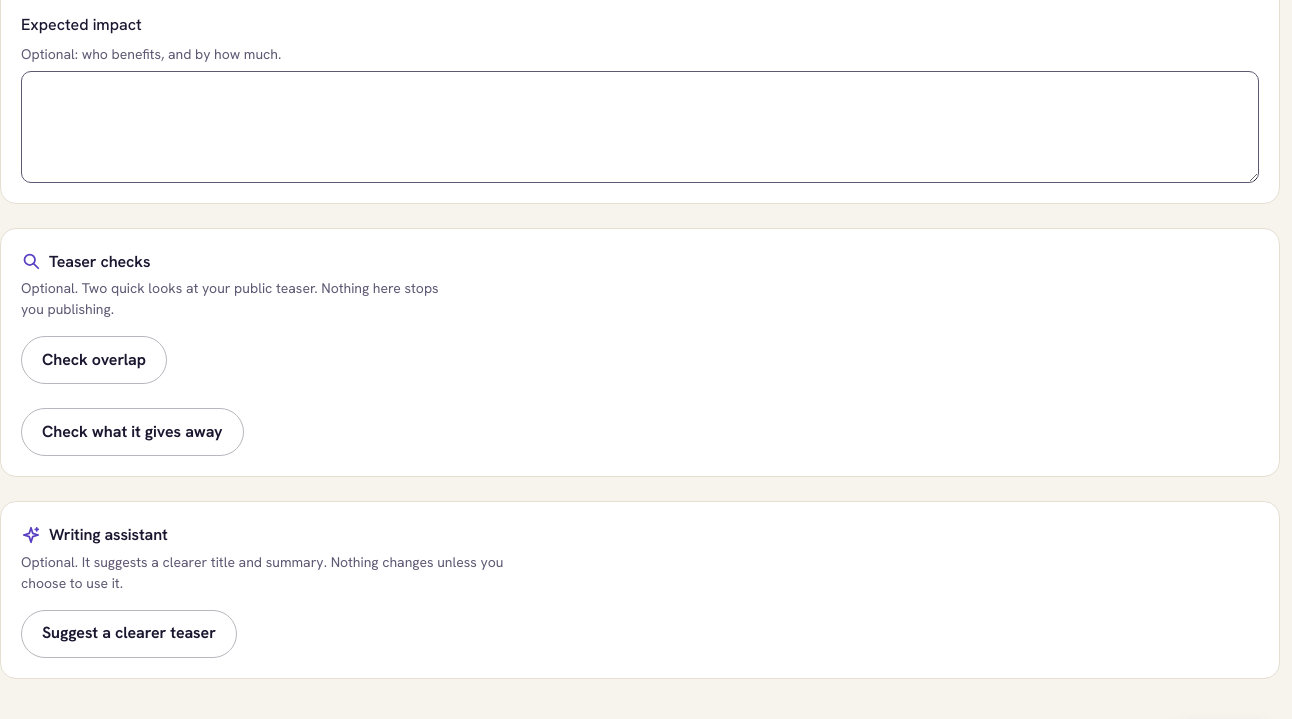
check overlap › says when there is nothing to compare with yet
(page scrolled)
Click the button "Check overlap": (94, 360) [21,336,167,384]
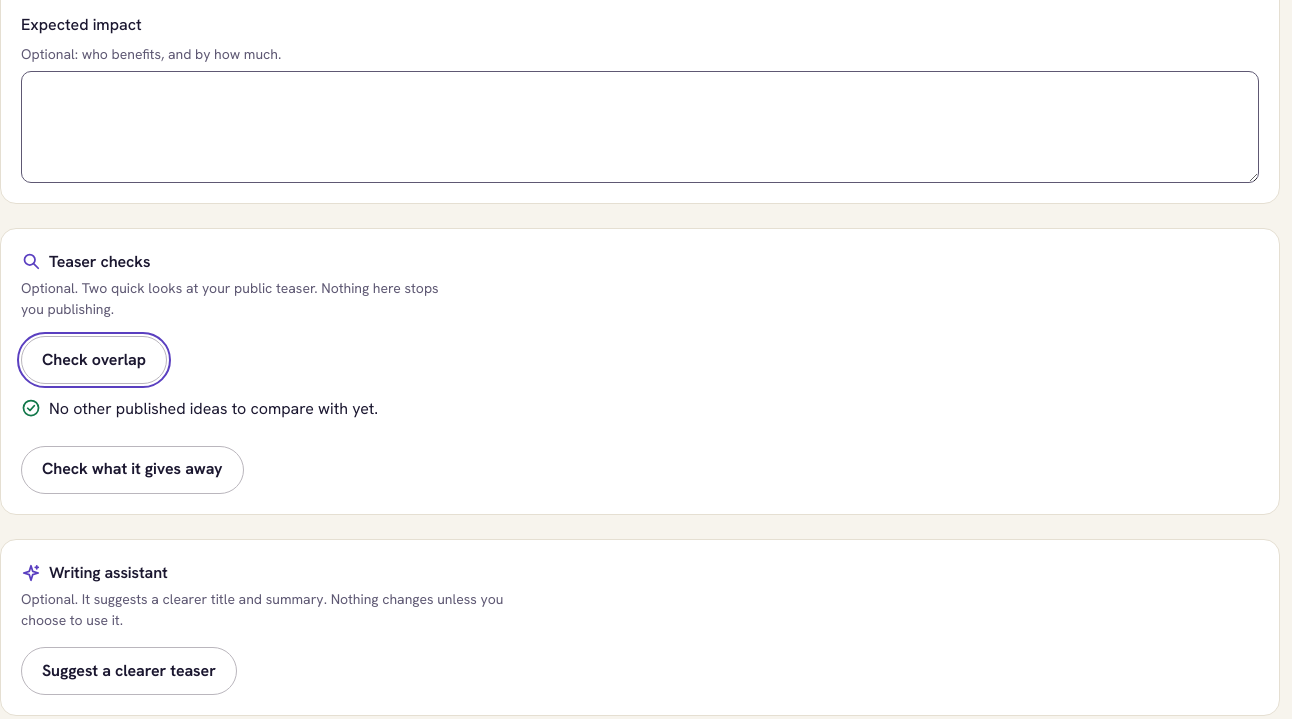
Now the message "No other published ideas to compare with yet." is shown, box [21,396,378,422]
